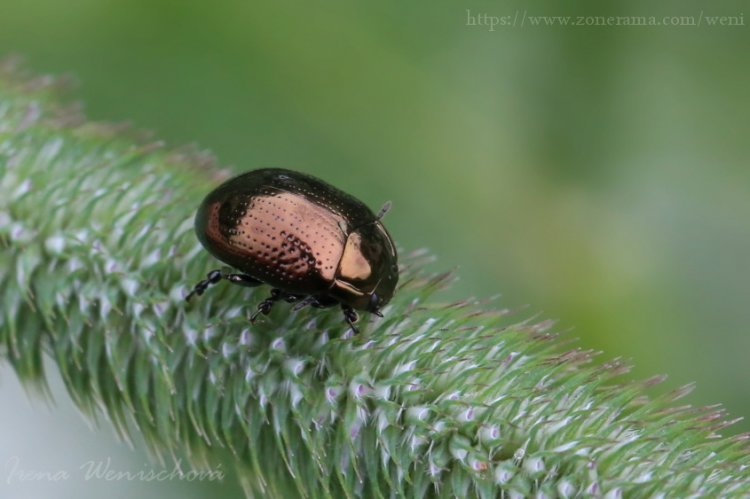Chrysolina_oricalcia: (180, 164, 401, 333)
